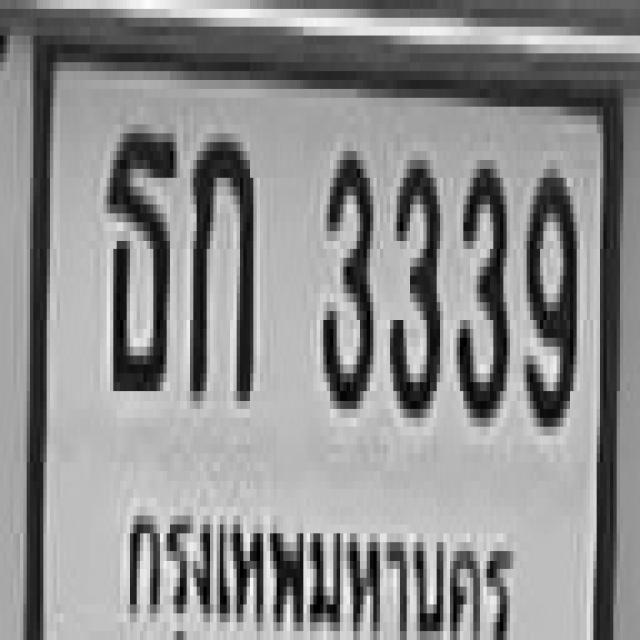10GorGai: (187, 125, 253, 391)
3: (453, 151, 507, 418), (320, 142, 370, 400), (386, 151, 436, 409)
33ThorThong: (104, 120, 174, 387)
9: (520, 160, 573, 418)
Bangkok: (114, 494, 514, 640)
